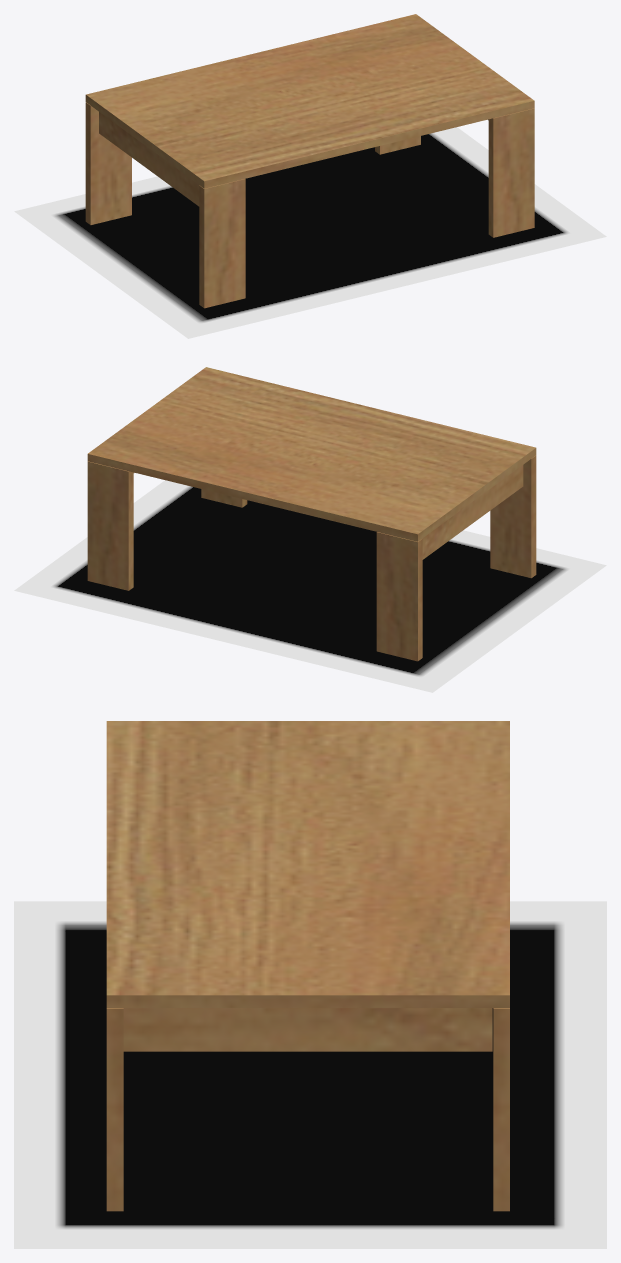
File: teatable004.dae
3 views of the same model, one above another, from view 1: azimuth 30°, elevation 25°; view 2: azimuth 150°, elevation 25°; view 3: azimuth 270°, elevation 25° (orthographic). The views are drawn at different scales.
Visible parts, largest first — view 1: teatable004 1, sd_teatable004; view 2: teatable004 1, sd_teatable004; view 3: sd_teatable004, teatable004 1.
Boxes of the visible parts, <box> form: teatable004 1: <box>85,14,534,308</box>; sd_teatable004: <box>14,127,606,338</box>; teatable004 1: <box>87,367,536,661</box>; sd_teatable004: <box>14,480,606,692</box>; sd_teatable004: <box>14,901,606,1248</box>; teatable004 1: <box>106,721,509,1211</box>.
Bounding box in the file's own units: 1.18 × 0.342 × 0.85.
2 materials, 2 textured.
